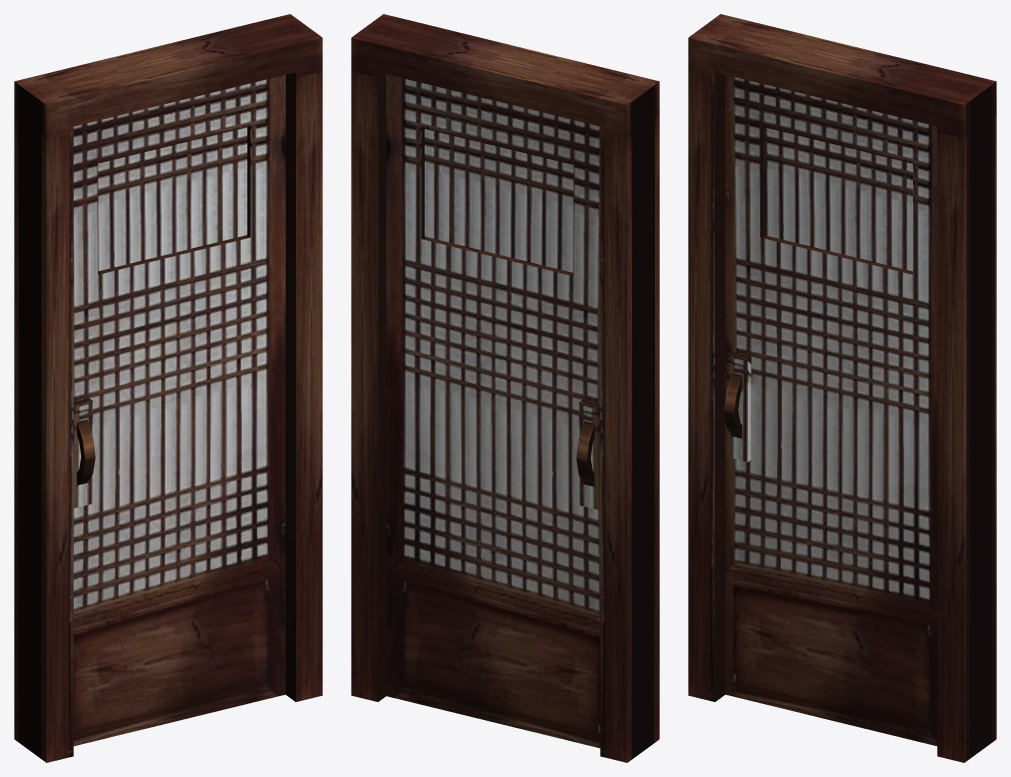
The model's file is Door4.b.fbx.
3 views of the same model, side by side, from view 1: azimuth 30°, elevation 25°; view 2: azimuth 150°, elevation 25°; view 3: azimuth 330°, elevation 25° (orthographic).
Parts seen in each view (by area): view 1: Group 0; view 2: Group 0; view 3: Group 0.
Boxes of the visible parts, x1,y1,x2,y2 form: Group 0: (14, 14, 322, 762); Group 0: (351, 14, 659, 762); Group 0: (688, 14, 996, 762).
Size of the model in its own units: 100 by 228 by 23.46.
Materials: 5 (5 with a texture image).
